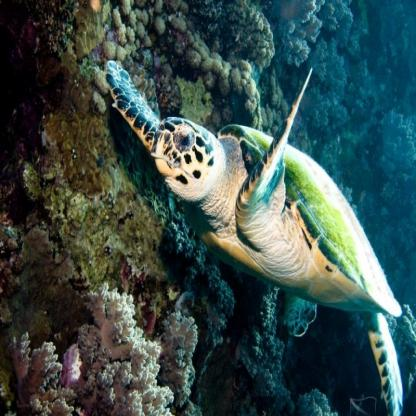turtle: (147, 112, 229, 211)
